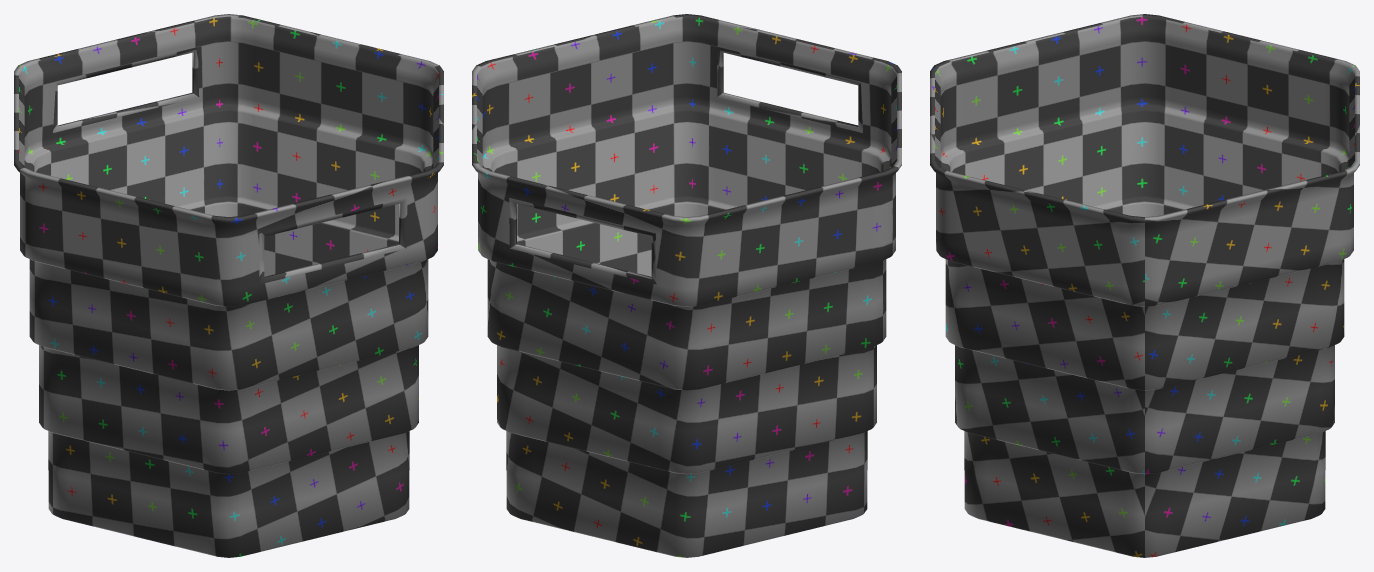
The model's file is 001_bin_MES.fbx.
3 renders of one model, left to right at view 1: azimuth 30°, elevation 25°; view 2: azimuth 150°, elevation 25°; view 3: azimuth 270°, elevation 25°, orthographic.
Visible parts, largest first — view 1: bin|Cylinder_L_018_Bin_UV.blend|Dupli|; view 2: bin|Cylinder_L_018_Bin_UV.blend|Dupli|; view 3: bin|Cylinder_L_018_Bin_UV.blend|Dupli|.
Boxes of the visible parts, x1,y1,x2,y2 form: bin|Cylinder_L_018_Bin_UV.blend|Dupli|: (14,14,443,557); bin|Cylinder_L_018_Bin_UV.blend|Dupli|: (472,14,901,557); bin|Cylinder_L_018_Bin_UV.blend|Dupli|: (930,14,1359,557).
Bounding box in the file's own units: 37.07 × 29.89 × 32.72.
